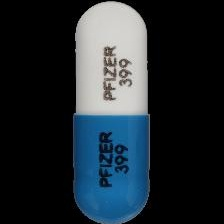0049-3990: (0, 0, 224, 224)
